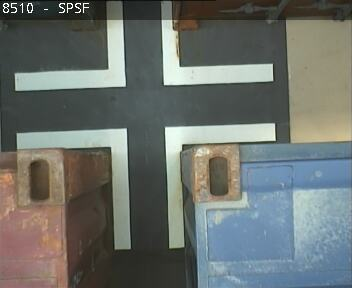groundmarker_1: (16, 122, 275, 251), (15, 1, 272, 93)
